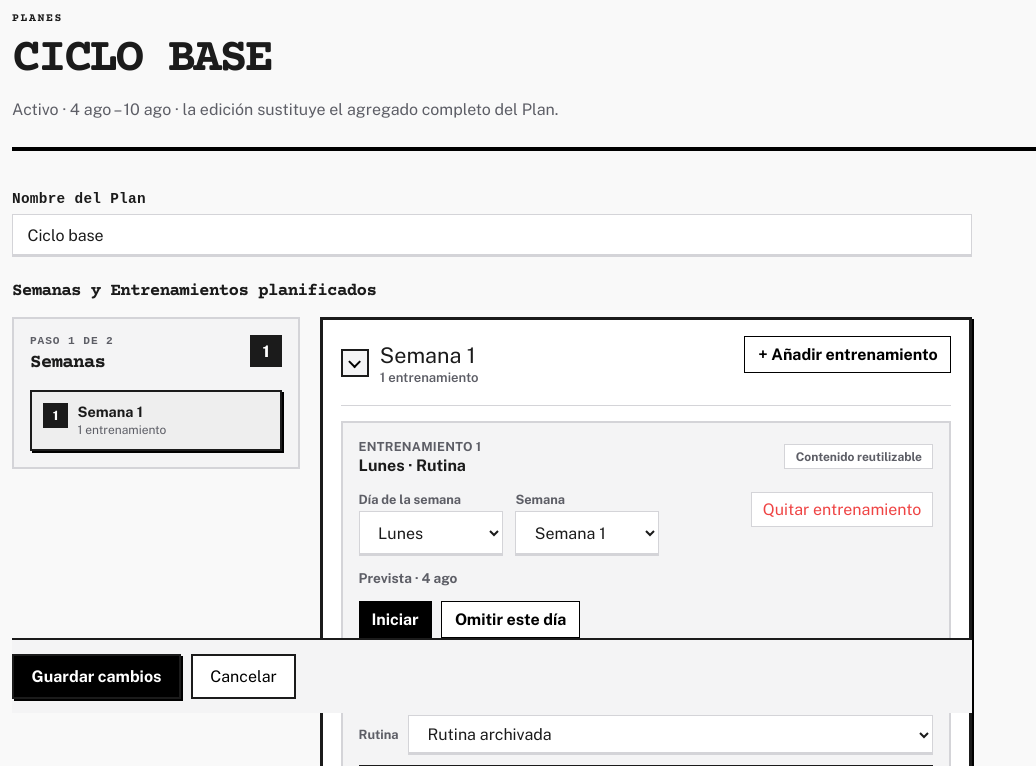
Scenario: iniciar una Sesión desde un Entrenamiento planificado › un fallo al iniciar muestra el error del servidor sin navegar
Click the button "Iniciar": (395, 619) [359,601,432,638]
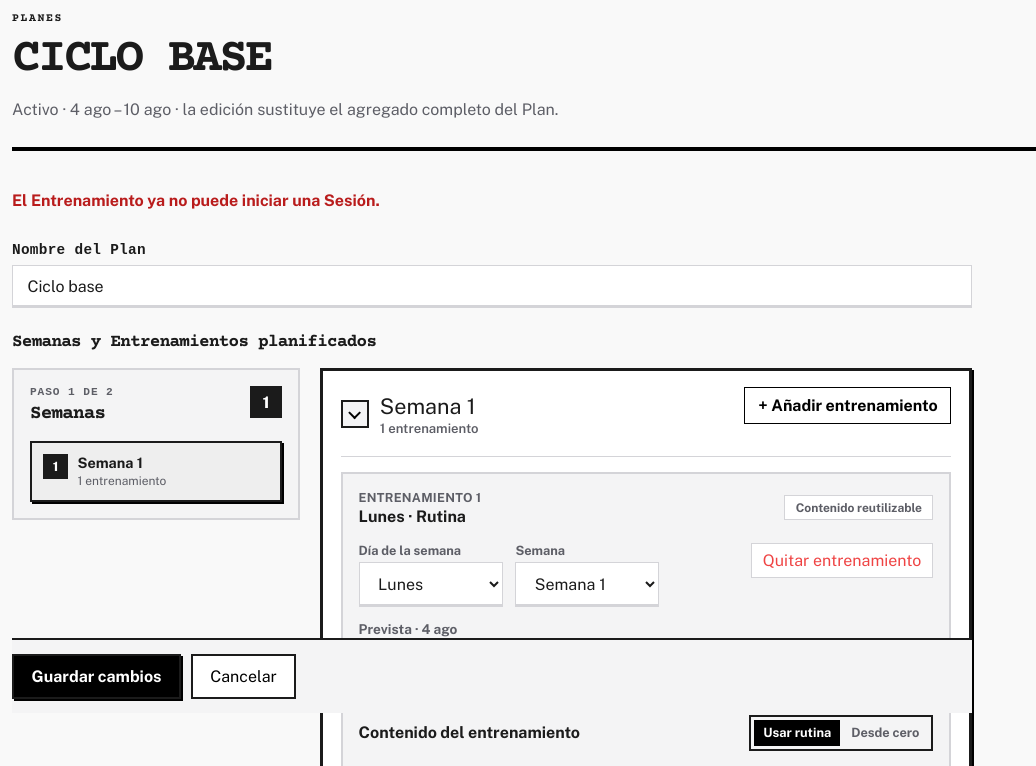
Check: the message shows "ya no puede iniciar una Sesión", box [12,191,380,210]
